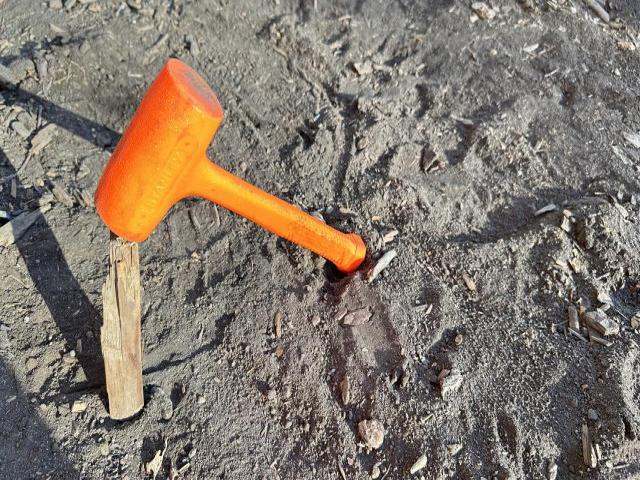hammer: (91, 55, 369, 273)
